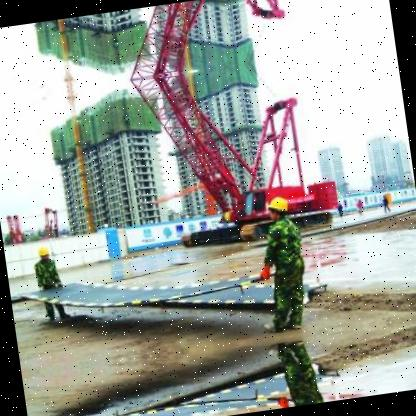capacete: (267, 194, 288, 212), (38, 245, 54, 263)
